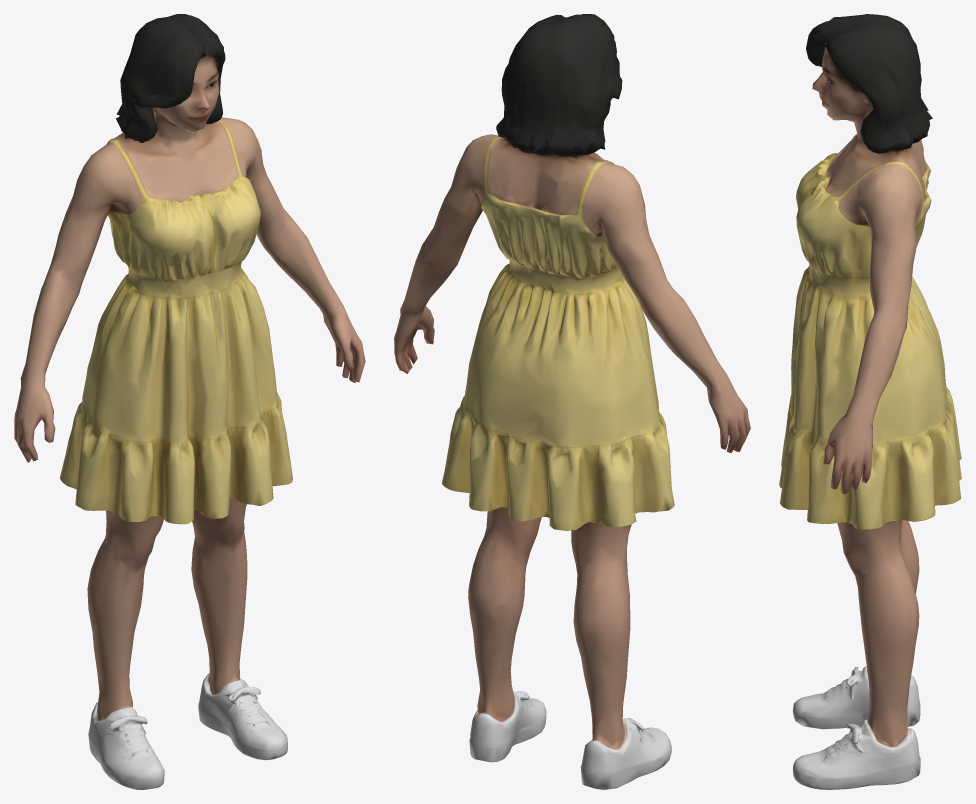
The model's file is npc_dress.glb.
3 views of the same model, side by side, from view 1: azimuth 30°, elevation 25°; view 2: azimuth 150°, elevation 25°; view 3: azimuth 270°, elevation 25° (orthographic).
Parts seen in each view (by area): view 1: tripo_node_ec0c8b96-30ce-4164-bd6a-a6bd3f47768c; view 2: tripo_node_ec0c8b96-30ce-4164-bd6a-a6bd3f47768c; view 3: tripo_node_ec0c8b96-30ce-4164-bd6a-a6bd3f47768c.
Part boxes in pixels (box(x1,y1,x2,y2)): tripo_node_ec0c8b96-30ce-4164-bd6a-a6bd3f47768c: box(14, 14, 365, 789); tripo_node_ec0c8b96-30ce-4164-bd6a-a6bd3f47768c: box(394, 14, 750, 789); tripo_node_ec0c8b96-30ce-4164-bd6a-a6bd3f47768c: box(779, 14, 961, 789).
Size of the model in its own units: 0.8364 by 1.7 by 0.3844.
1 material, 1 textured.
